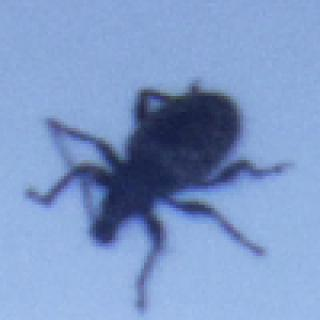bvw: (25, 75, 293, 315)
